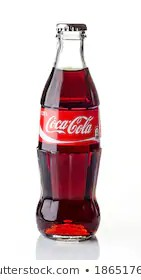coke-glass-bottle: (32, 23, 105, 241)
